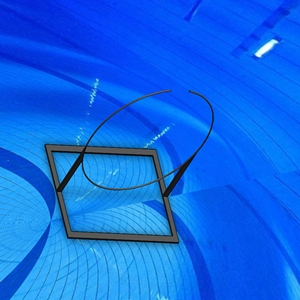circle: (44, 87, 216, 245)
